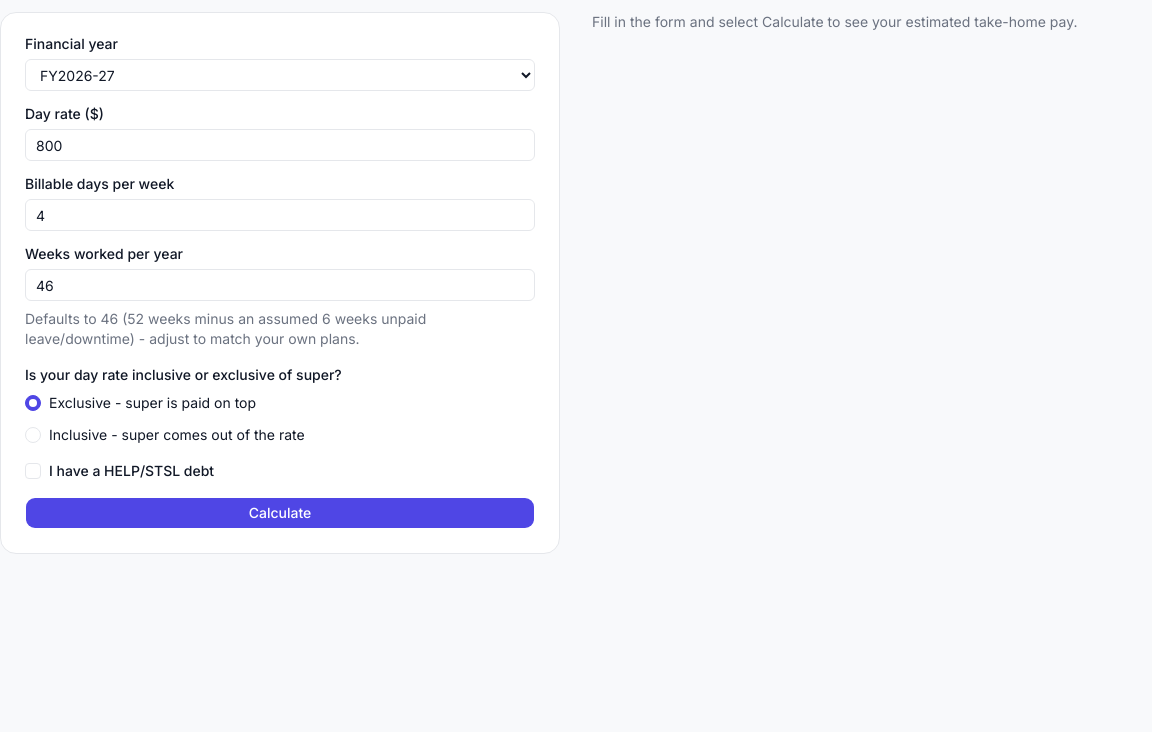
ContractorTakeHomeCalculator › rejects more than 7 billable days per week
This screenshot has width=1152, height=732.
Replace the text in the number field labelled "Billable days per week" with "8". click: (280, 215)
box: [25,199,535,231]
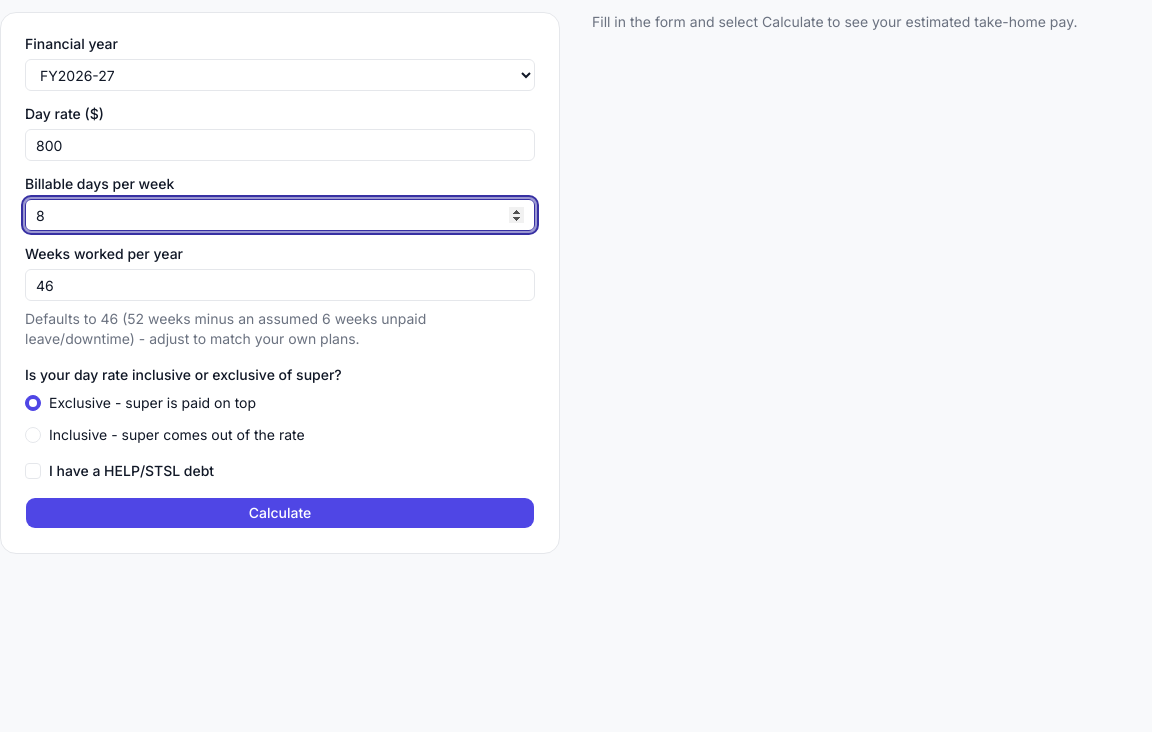
Click the button "Calculate". click: click(280, 513)
box: [25,497,535,529]
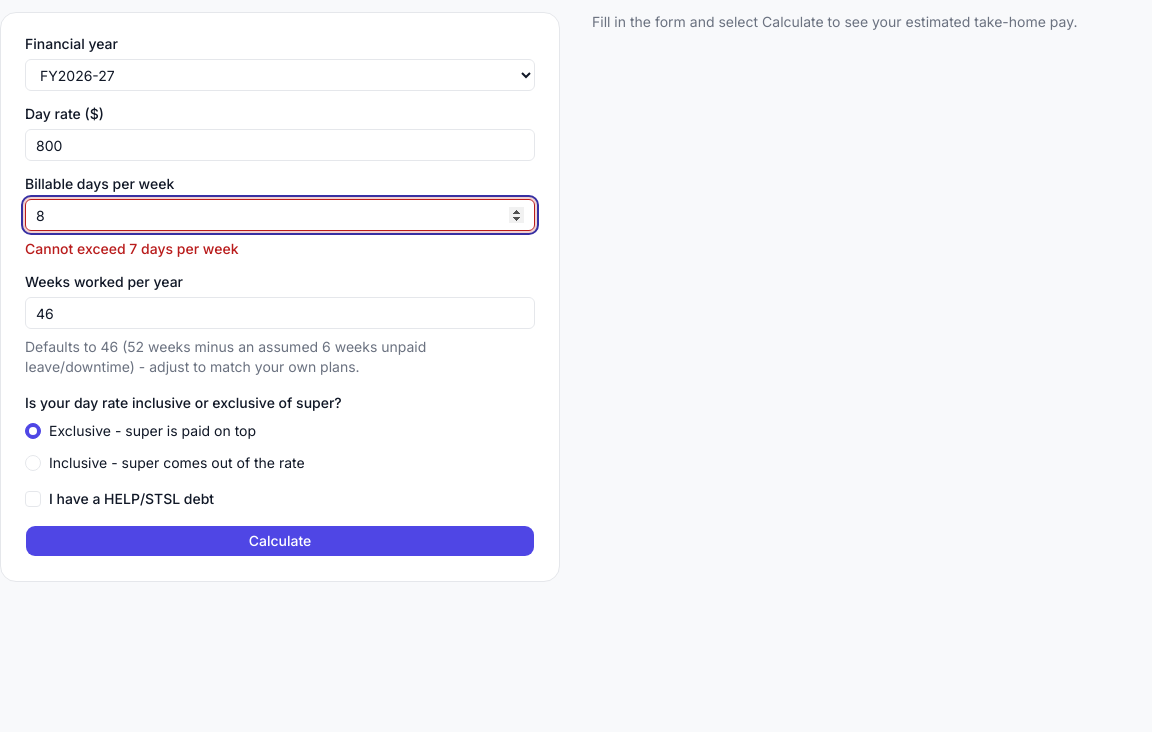
Now the message shows "Cannot exceed 7 days", box [25,240,238,257]
